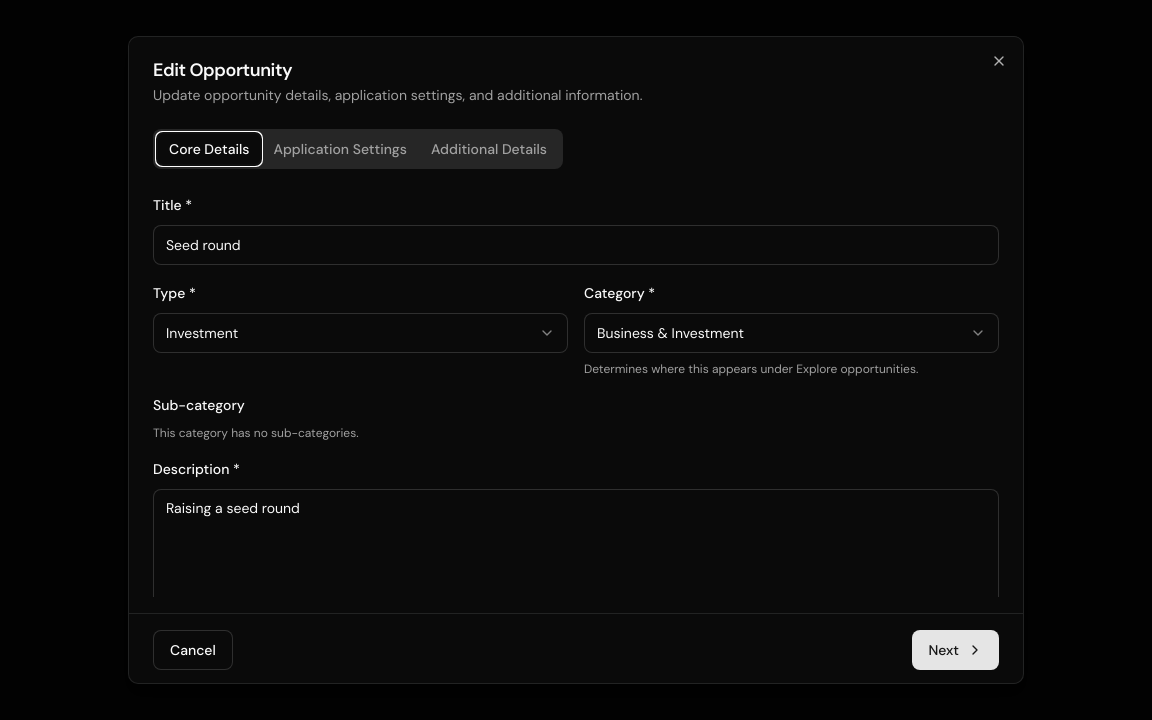
Test: CreateEditOpportunityModal compensation (minor units) › edit: prefills major units (÷100) and saves minor units (×100) past int32
Later steps or results of the test are not shown.
Step 1. Click the tab "Additional Details" → (489, 149), box 419,133 -> 559,165
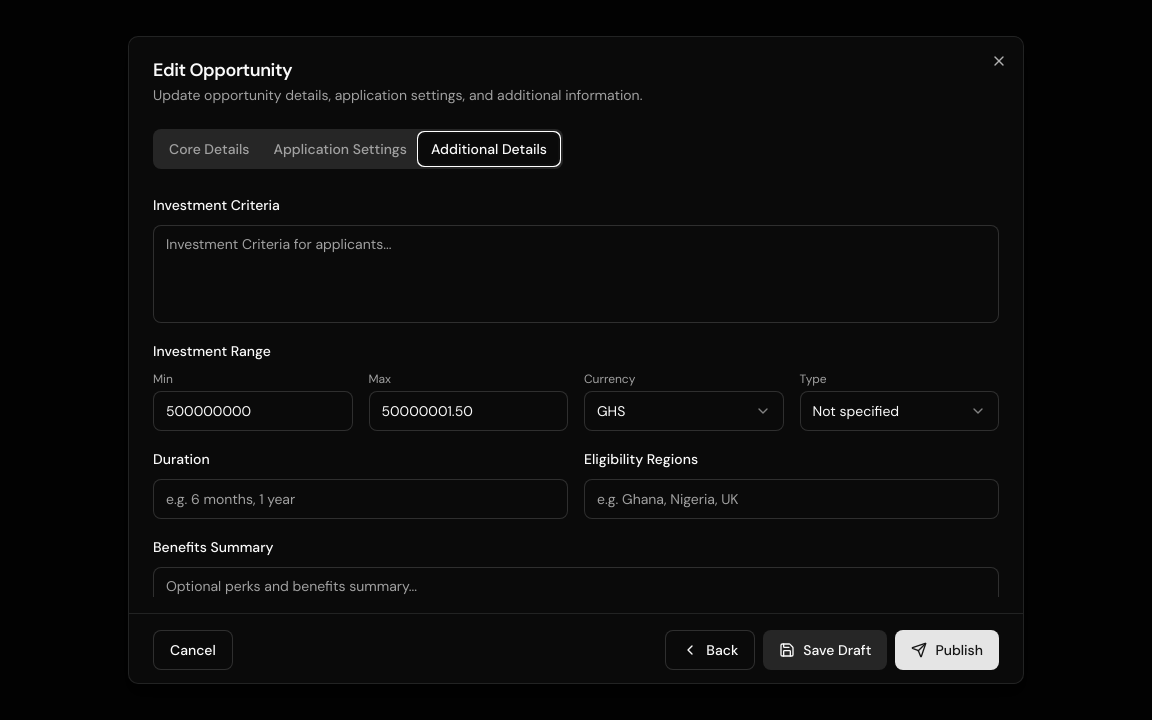
Expected: the number field showing "500000000" below "Min" is shown, 153,391 -> 352,431
